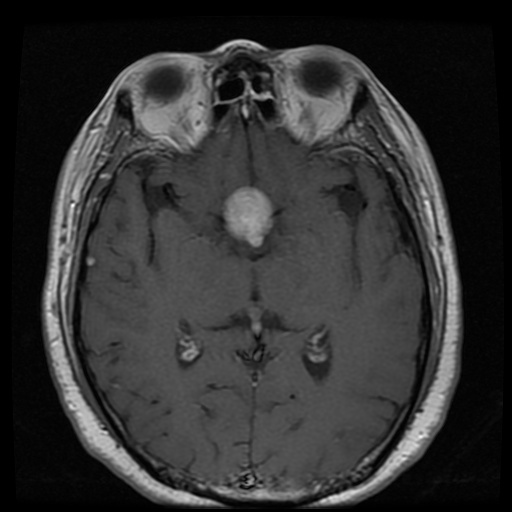pituitary: (225, 188, 272, 241)
